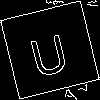U: (25, 25, 71, 79)
